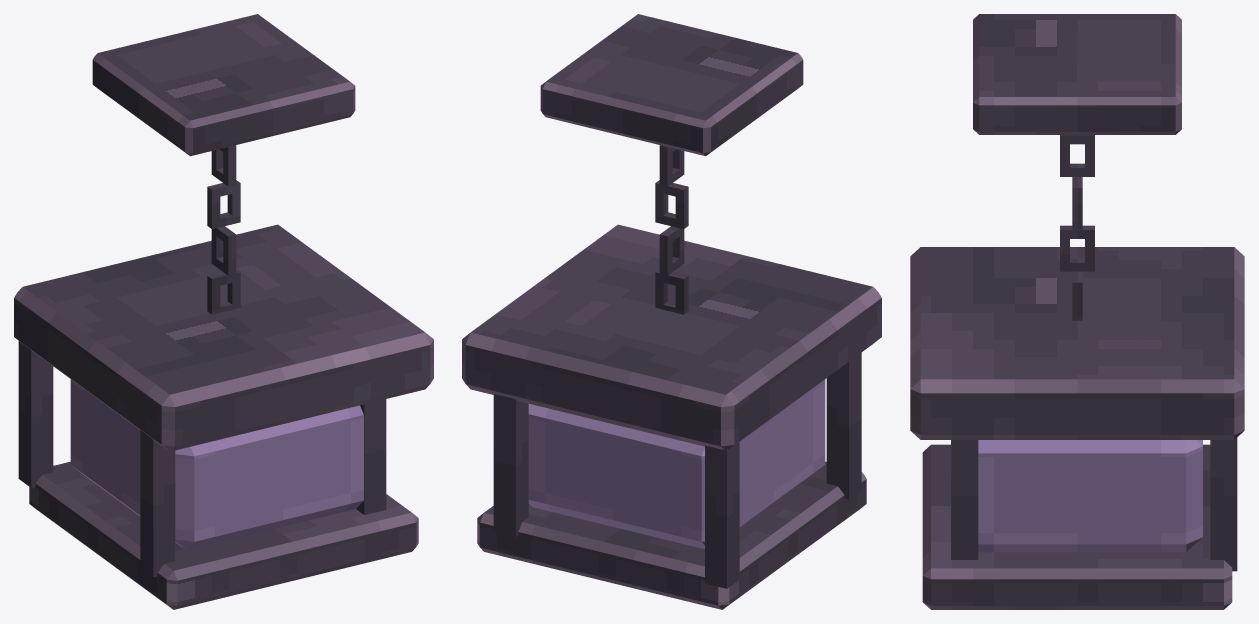
Rendered from uv_pendant_body.obj.
3 renders of one model, left to right at view 1: azimuth 30°, elevation 25°; view 2: azimuth 150°, elevation 25°; view 3: azimuth 270°, elevation 25°, orthographic. The views are drawn at different scales.
Visible parts, largest first — view 1: model; view 2: model; view 3: model.
Part boxes in pixels (x1,y1,x2,y2): model: [14, 14, 433, 609]; model: [462, 14, 881, 609]; model: [910, 14, 1244, 609].
Bounding box in the file's own units: 0.5 × 0.8125 × 0.5.
